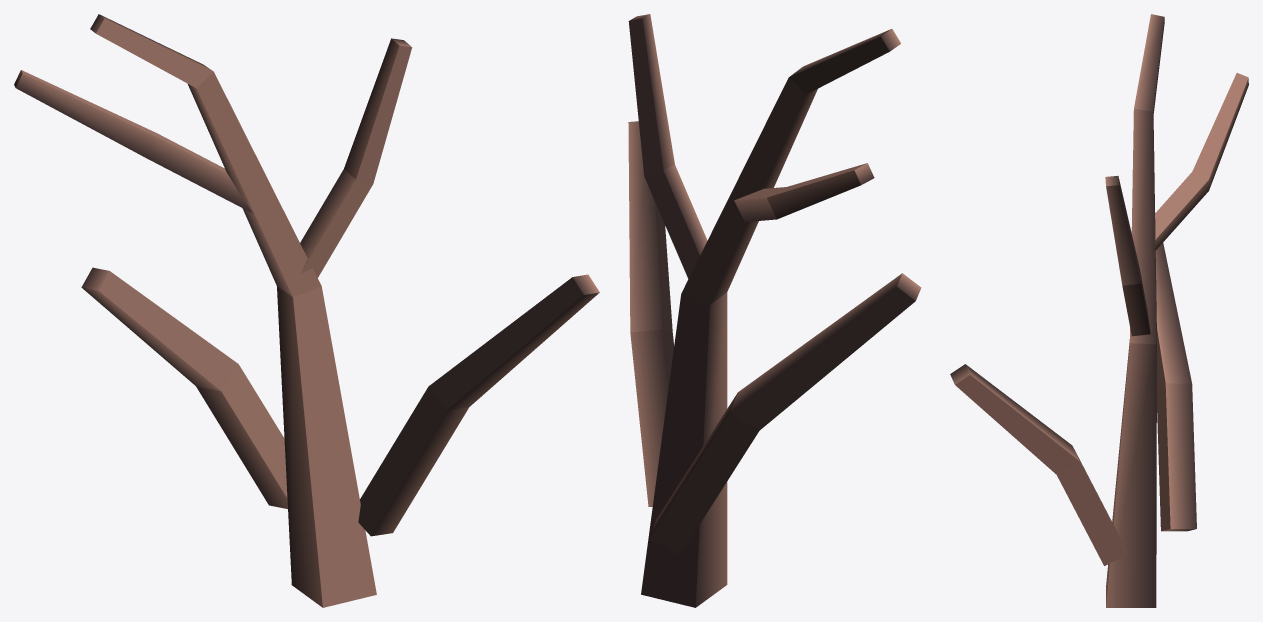
The model's file is CoralReef_05.fbx.
The picture shows the model from 3 angles, left to right: view 1: azimuth 30°, elevation 25°; view 2: azimuth 150°, elevation 25°; view 3: azimuth 270°, elevation 25°; orthographic projection. The views are drawn at different scales.
Visible parts, largest first — view 1: grass_02; view 2: grass_02; view 3: grass_02.
Part boxes in pixels (x1,y1,x2,y2): grass_02: (14, 14, 599, 607); grass_02: (628, 14, 921, 607); grass_02: (950, 14, 1248, 607).
Size of the model in its own units: 67.9 by 97.43 by 53.02.
Materials: 1 (1 with a texture image).
